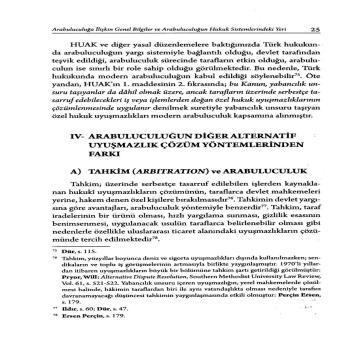footer: (60, 248, 324, 321)
header: (51, 24, 292, 32)
